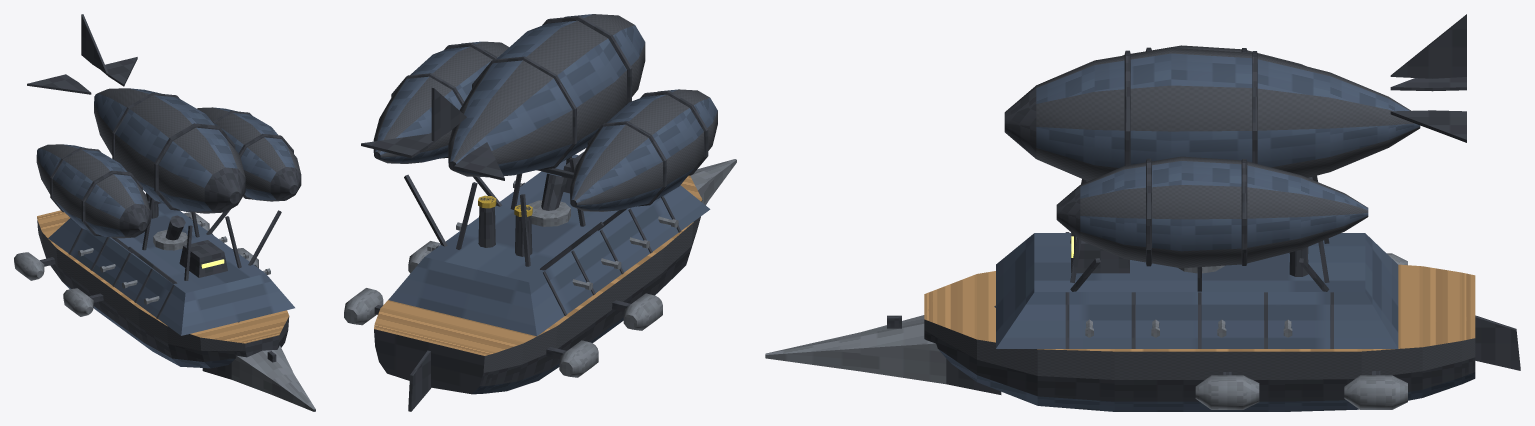
File: SM_Ship_Bastion_HQ.glb
3 views of the same model, side by side, from view 1: azimuth 30°, elevation 25°; view 2: azimuth 150°, elevation 25°; view 3: azimuth 270°, elevation 25° (orthographic). The views are drawn at different scales.
Visible parts, largest first — view 1: SM_Ship_Bastion_HQ; view 2: SM_Ship_Bastion_HQ; view 3: SM_Ship_Bastion_HQ.
Part boxes in pixels (<box>): SM_Ship_Bastion_HQ: <box>14,14,315,411</box>; SM_Ship_Bastion_HQ: <box>344,14,736,411</box>; SM_Ship_Bastion_HQ: <box>765,14,1520,411</box>.
Size of the model in its own units: 17.51 by 19.2 by 35.64.
Materials: 1 (1 with a texture image).
